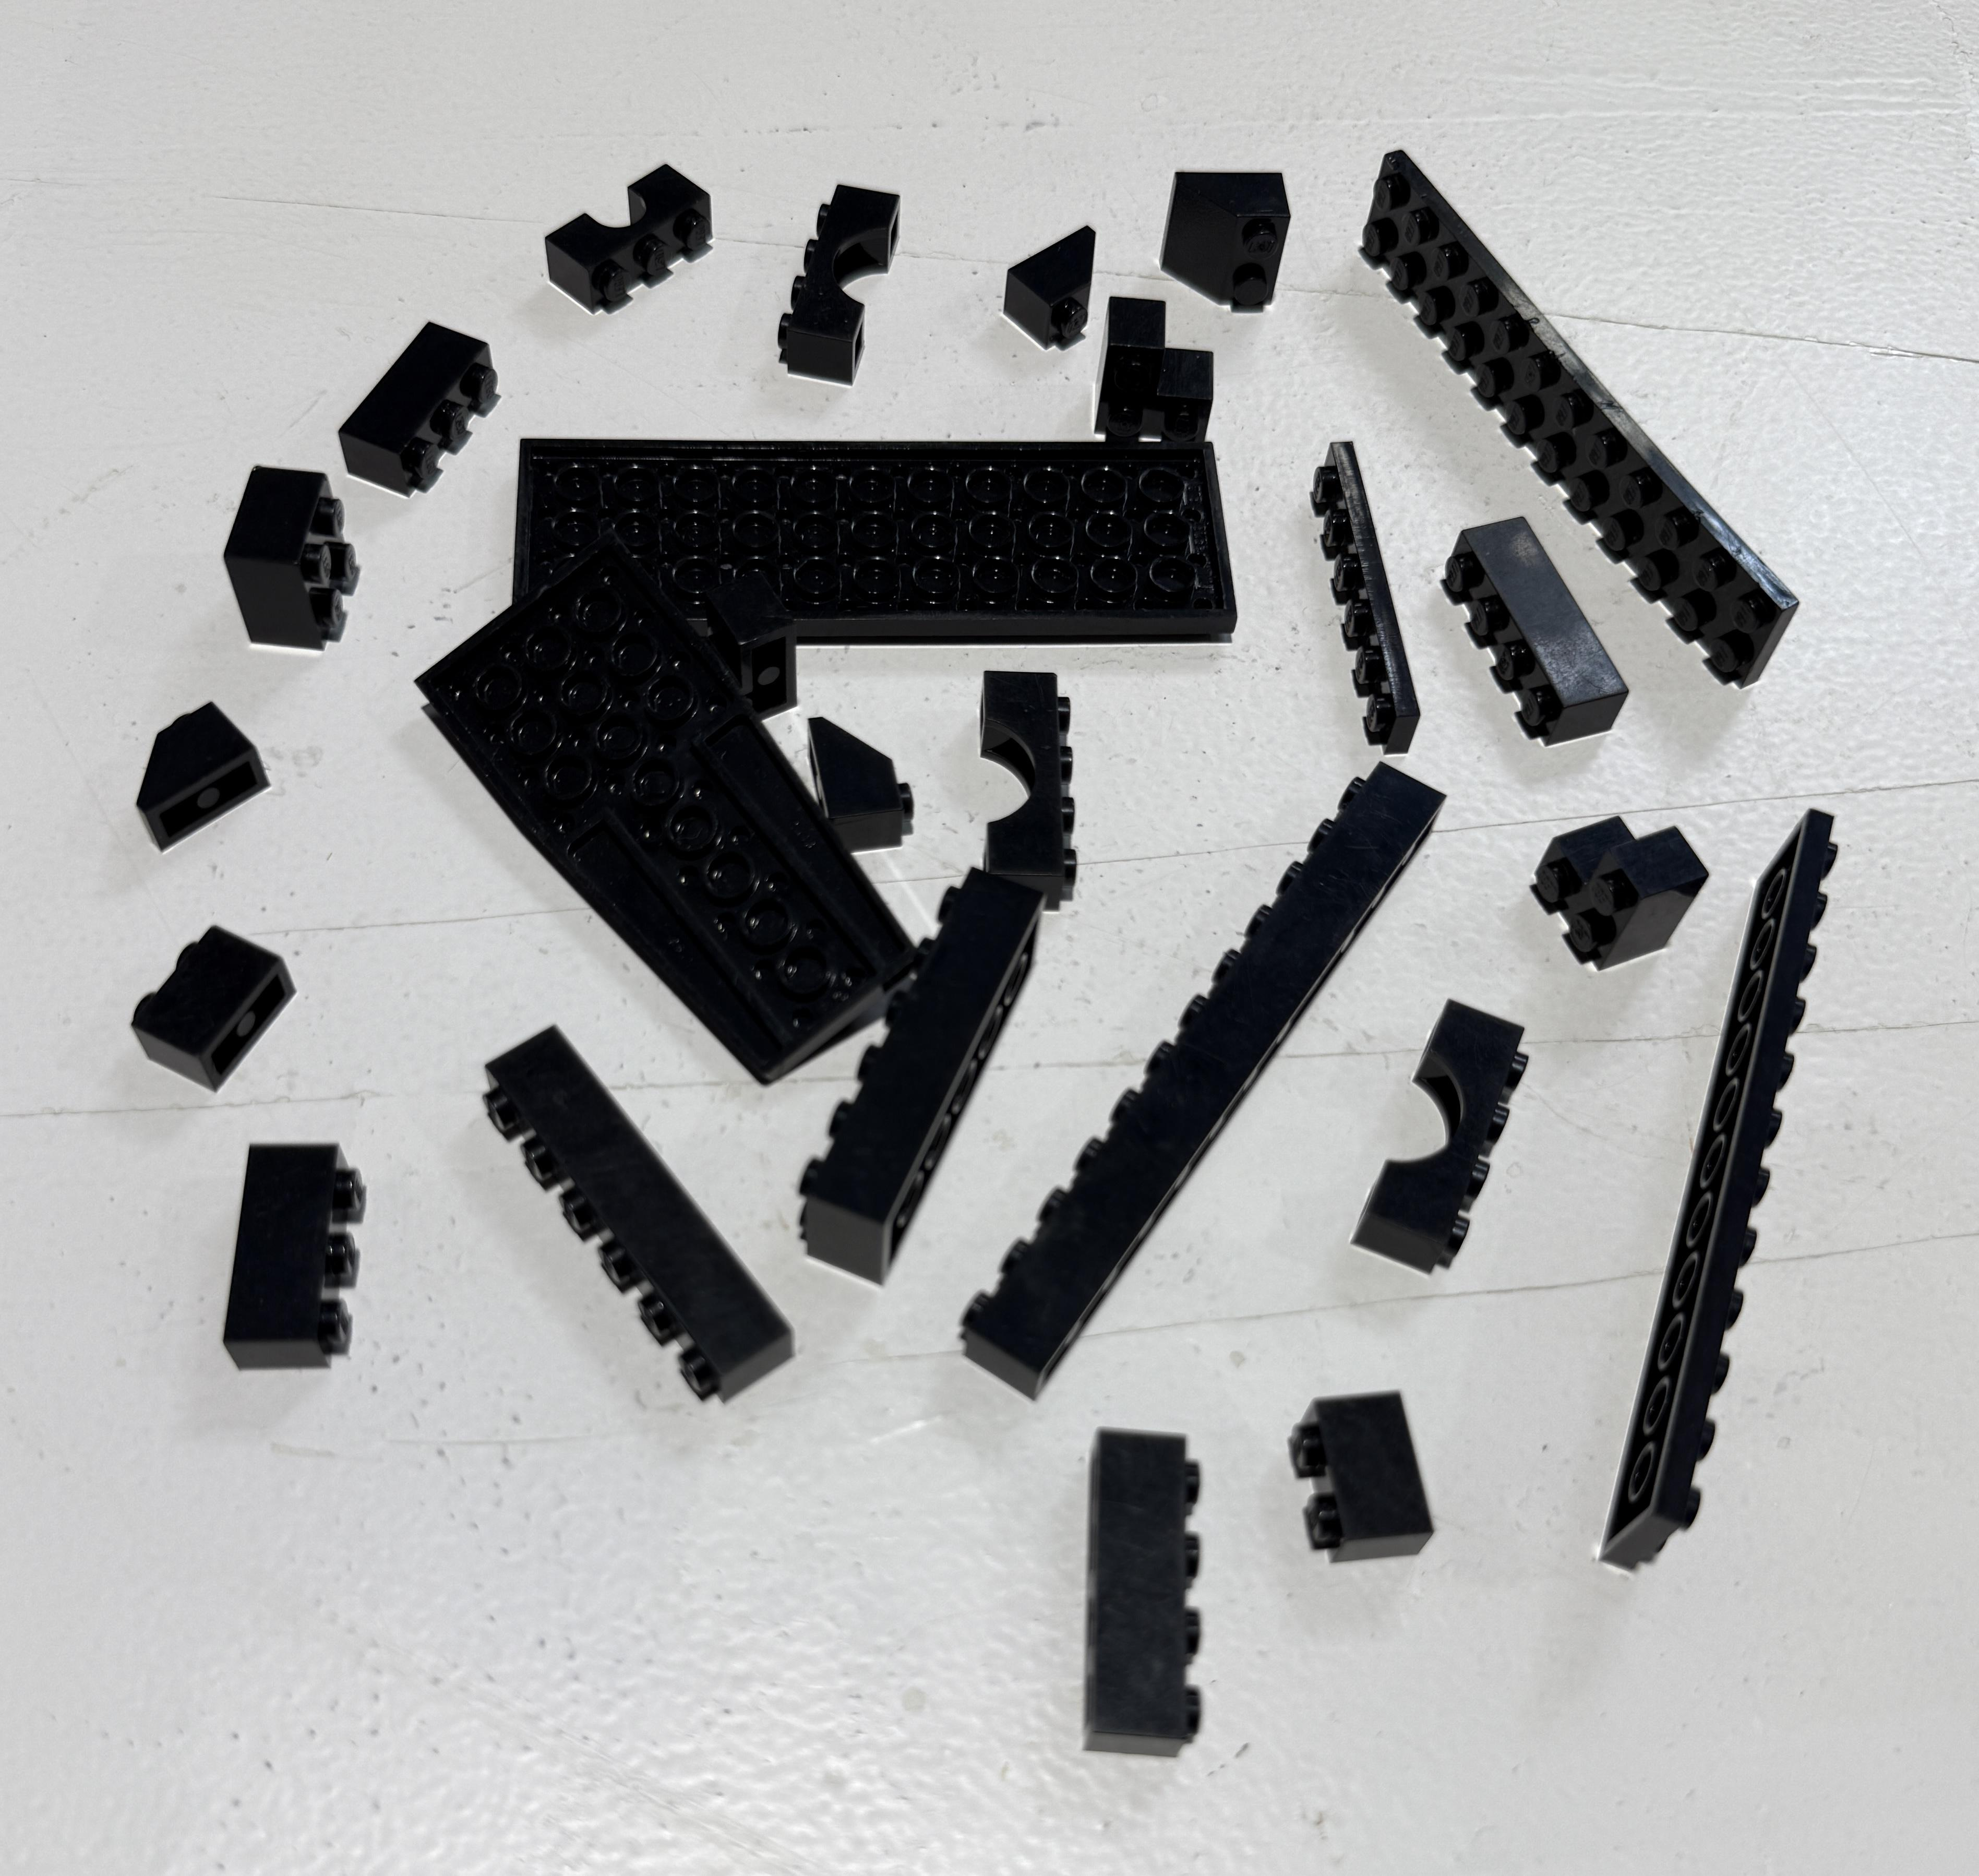brick_1x2: (1283, 1340, 1489, 1613), (120, 904, 344, 1109)
brick_1x3: (194, 1128, 393, 1389), (330, 293, 511, 518)
